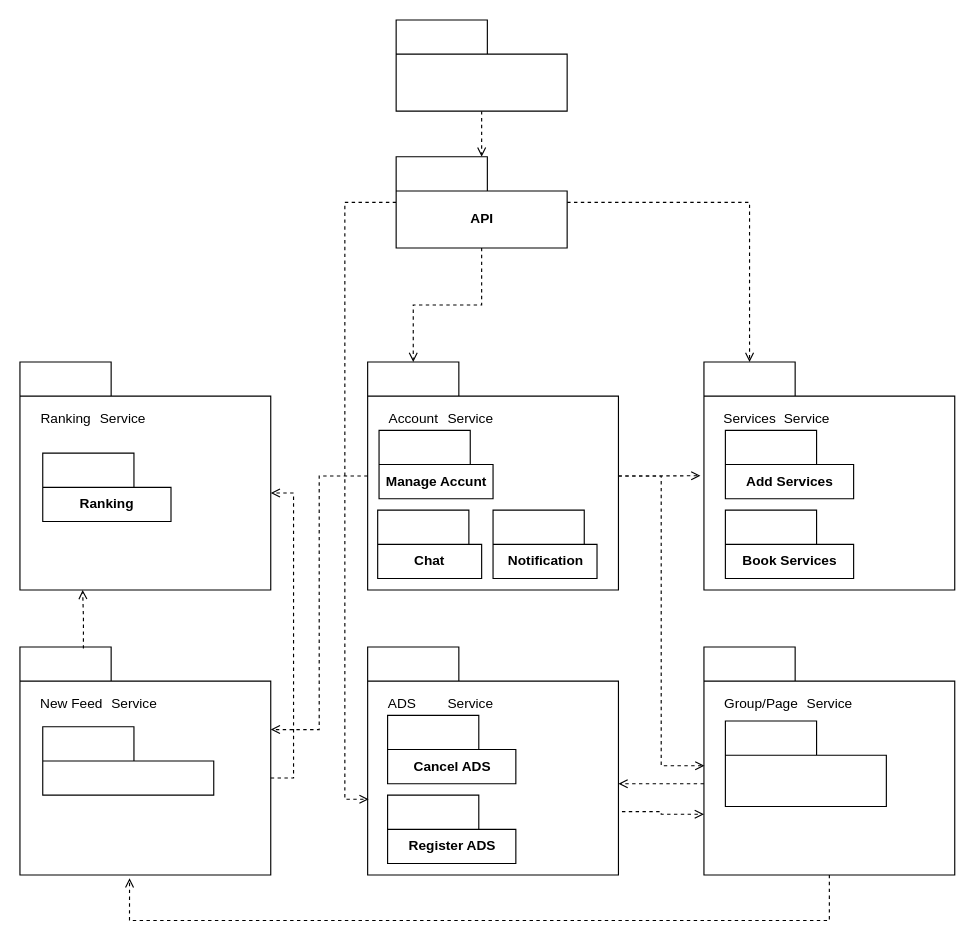
Image size: 975x950. Some labels were removed from this diagram. The shapes that lost their labels are listed below. From the top down, each one's centre as x and y in pixels, then its label:
(481,65): UI
(128,760): New Feeds
(805,763): Manage Page/Group
